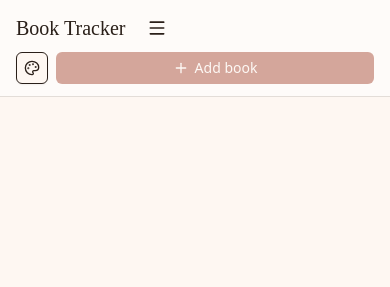
Test: AppHeader › mobile navigation › a route change auto-closes the mobile nav
Click the button with test id "header-nav-toggle" at (158, 28), box x1=142 y1=12 x2=174 y2=44
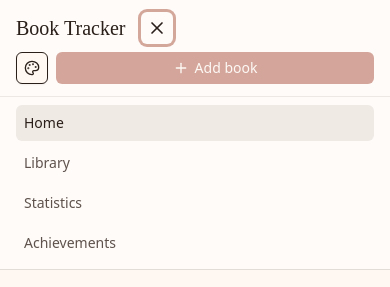
Now the navigation bar with test id "header-mobile-nav" is shown
